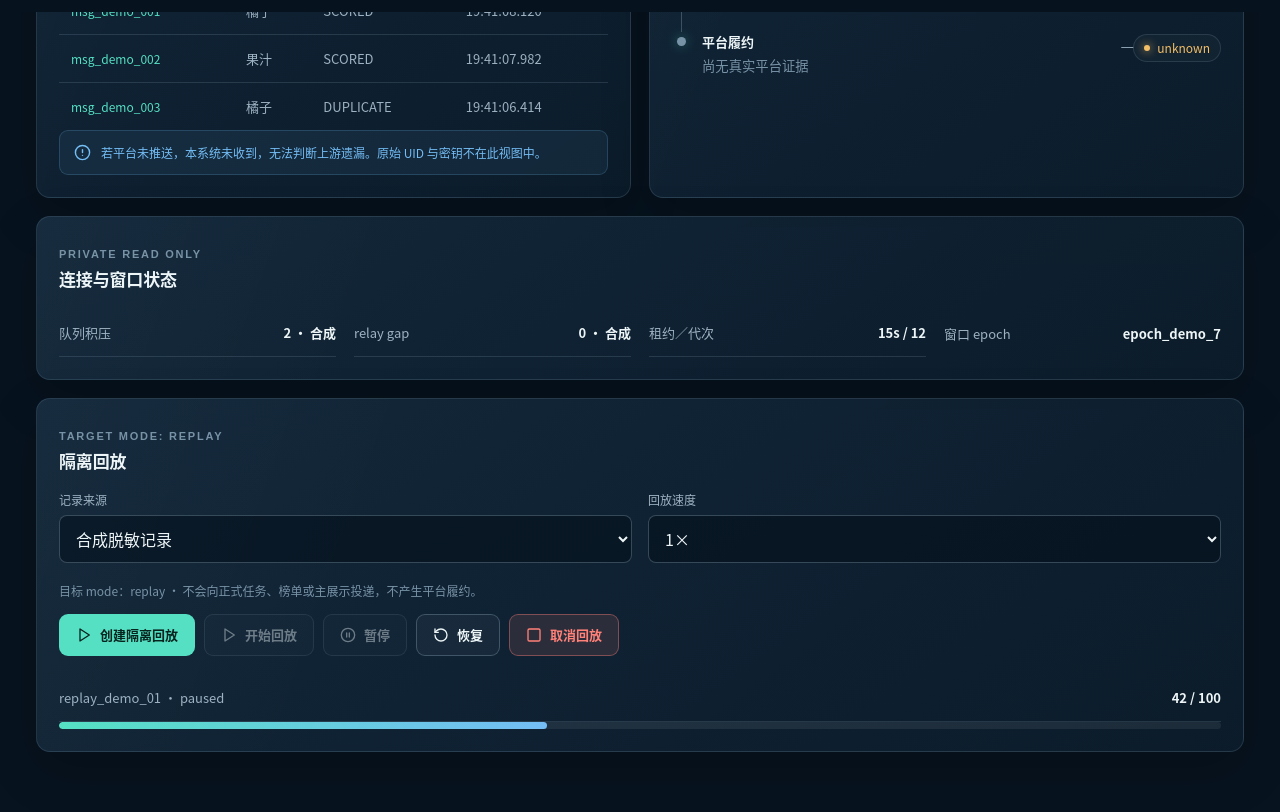
Test: 运行诊断与隔离回放 › 命令未应用时保留任务状态
(page scrolled)
Click the button "恢复".
click(458, 635)  # box [416,614,500,656]
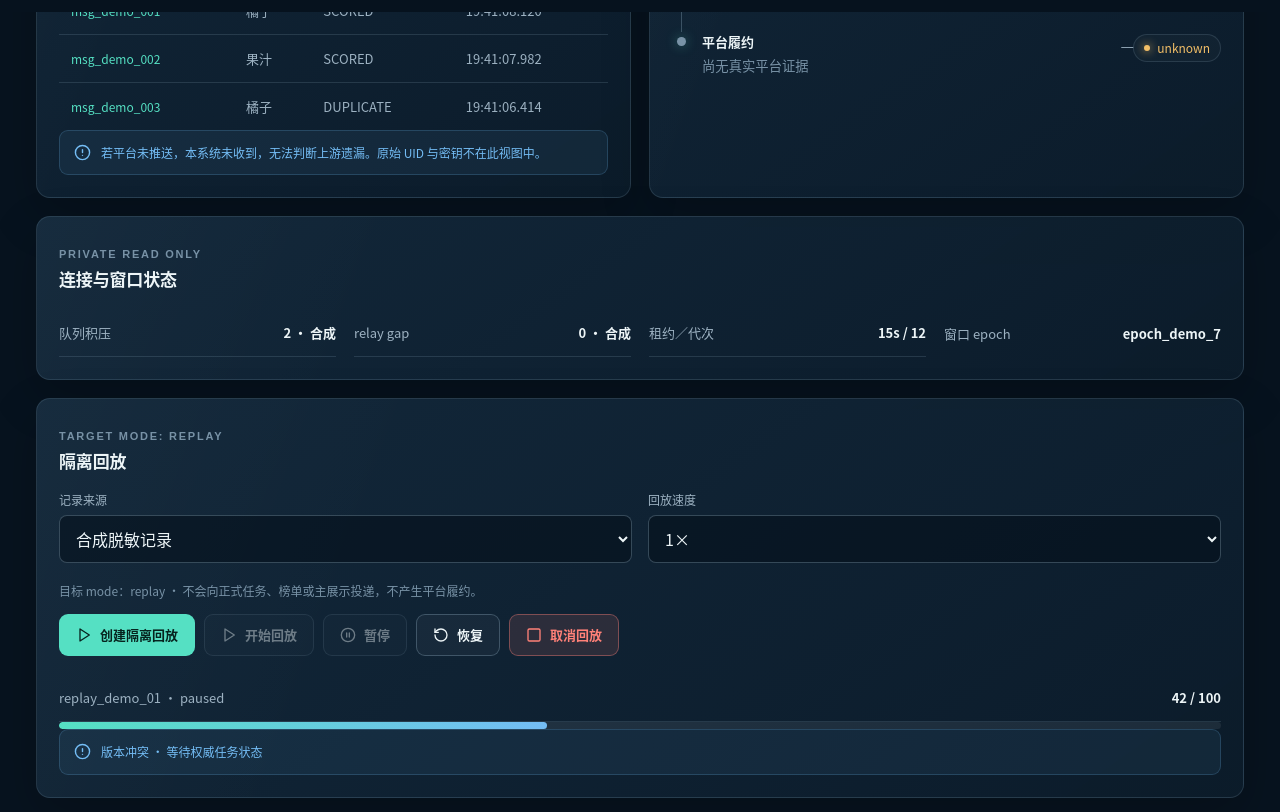
Expected: the text "replay_demo_01 · paused" is shown, [59,688,224,707]
Now the text "版本冲突 · 等待权威任务状态" is shown, box [101,742,262,762]
